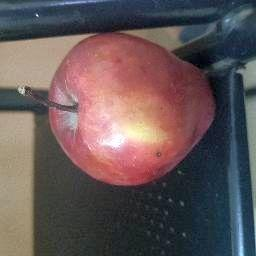apple: (0, 17, 241, 197)
